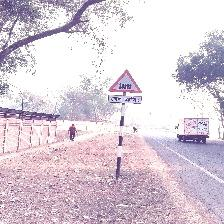Rail-crossing: (108, 70, 143, 105)
